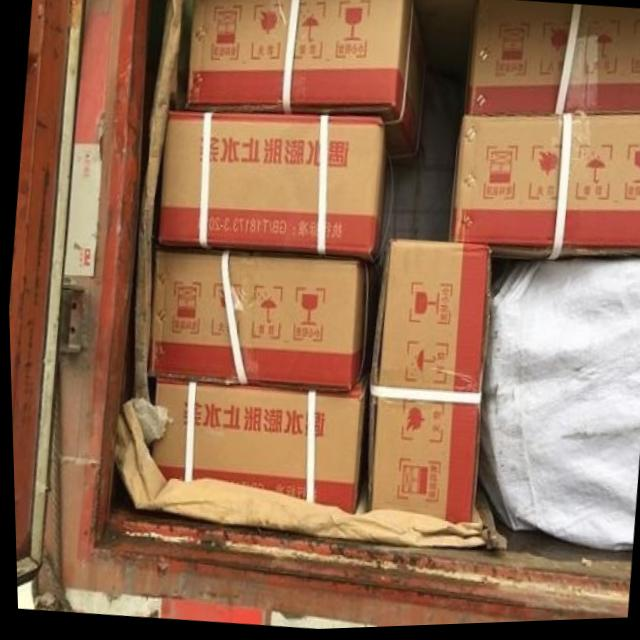box: (182, 0, 427, 157), (364, 239, 488, 527), (153, 113, 388, 260), (144, 244, 376, 392), (147, 373, 366, 517), (446, 118, 640, 261), (463, 1, 640, 118)
